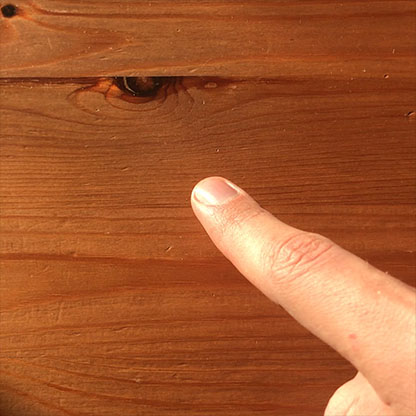fingertip: (182, 168, 251, 231)
